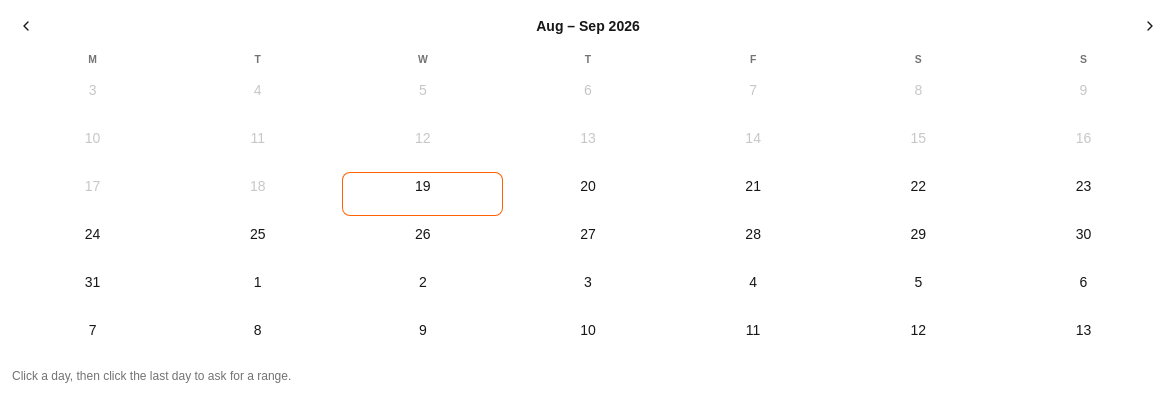
it: moving around › switches whole months, then comes back to the current week
Click the button named "Next month": (1150, 26) [1136, 12, 1164, 40]
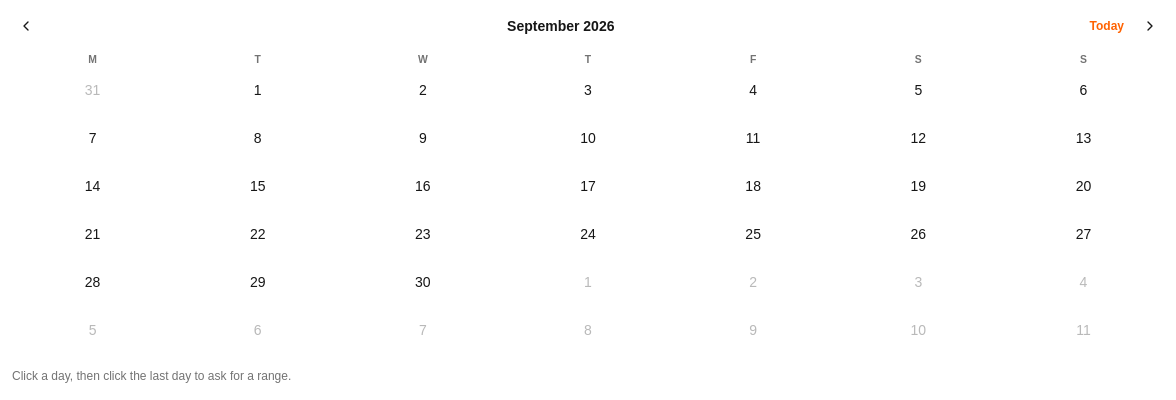
Now the text "September 2026" is shown, box [507, 18, 614, 34]
Click the button named "Previous month": (26, 26) [12, 12, 40, 40]
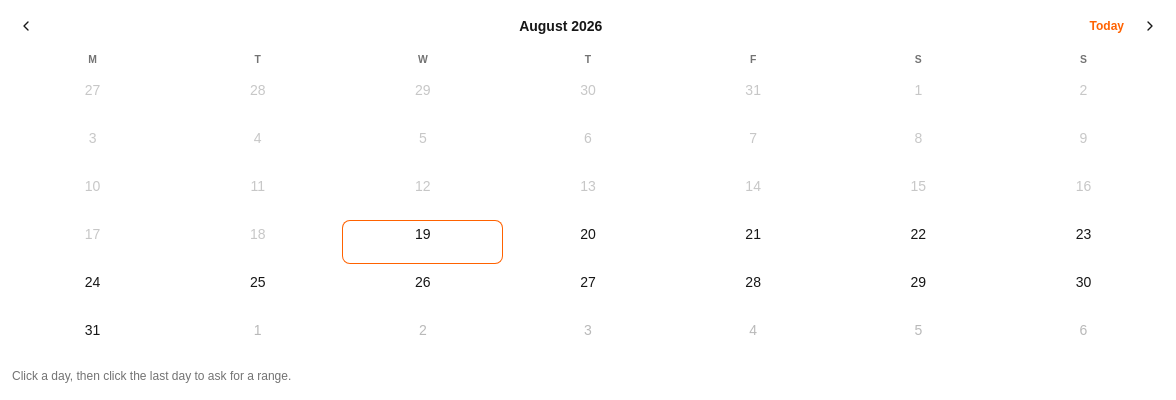
Now the text "August 2026" is shown, box [519, 18, 602, 34]
Click the button "Today": (1107, 26) [1082, 14, 1132, 38]
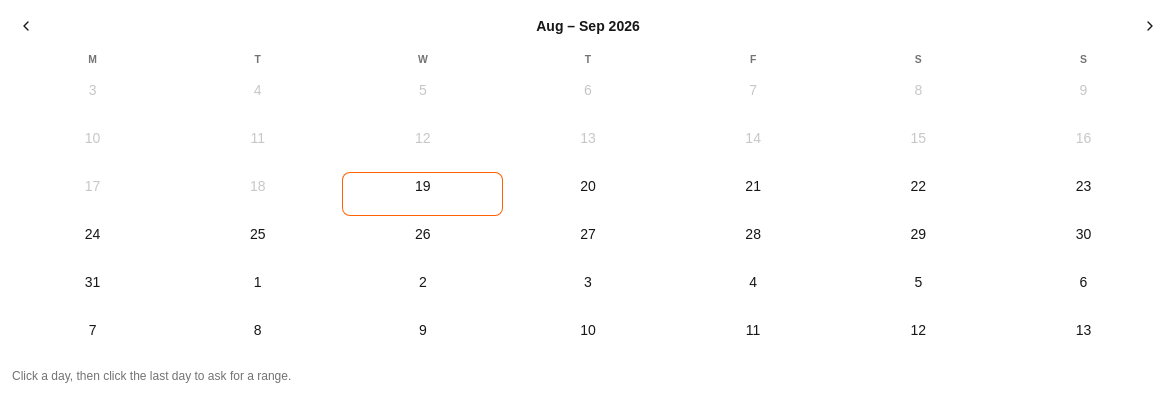
Now the text "Aug – Sep 2026" is shown, box [536, 18, 640, 34]
Now the button "Today" is gone
